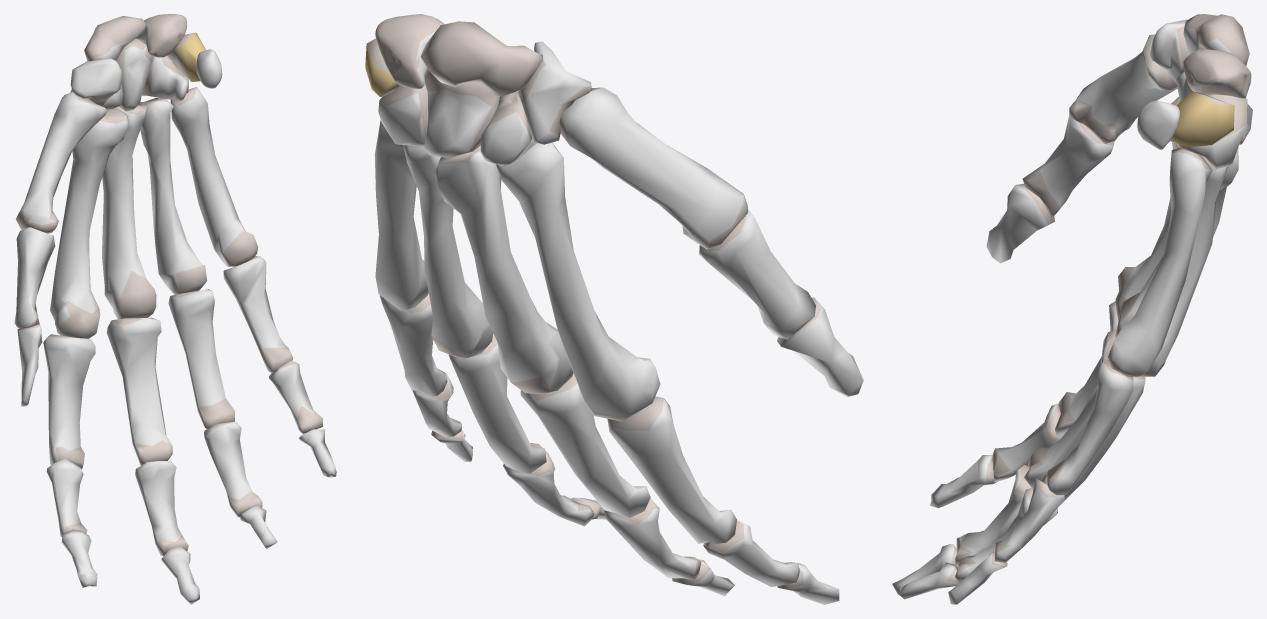
File: wrist_R.fbx
3 renders of one model, left to right at view 1: azimuth 30°, elevation 25°; view 2: azimuth 150°, elevation 25°; view 3: azimuth 270°, elevation 25°, orthographic. The views are drawn at different scales.
Parts seen in each view (by area): view 1: Capitate bone.r.001; view 2: Capitate bone.r.001; view 3: Capitate bone.r.001.
Boxes of the visible parts, left/top/right/bottom form: Capitate bone.r.001: left=14, top=14, right=336, bottom=604; Capitate bone.r.001: left=365, top=14, right=863, bottom=604; Capitate bone.r.001: left=892, top=14, right=1252, bottom=604.
Size of the model in its own units: 10.86 by 16.42 by 8.81.
